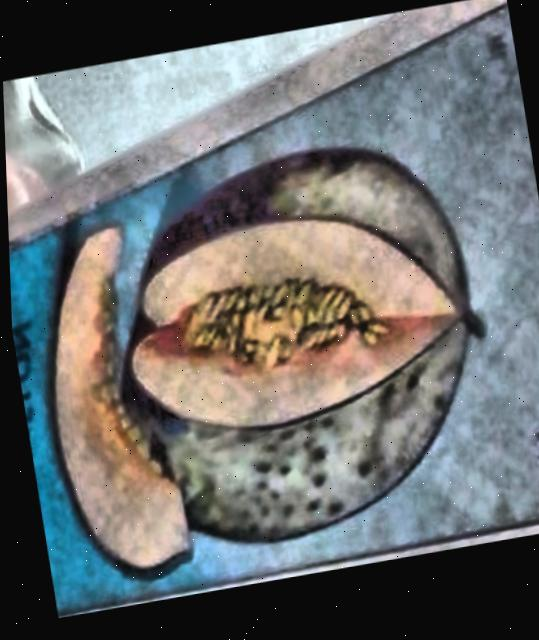El Melon: (7, 6, 539, 617)
